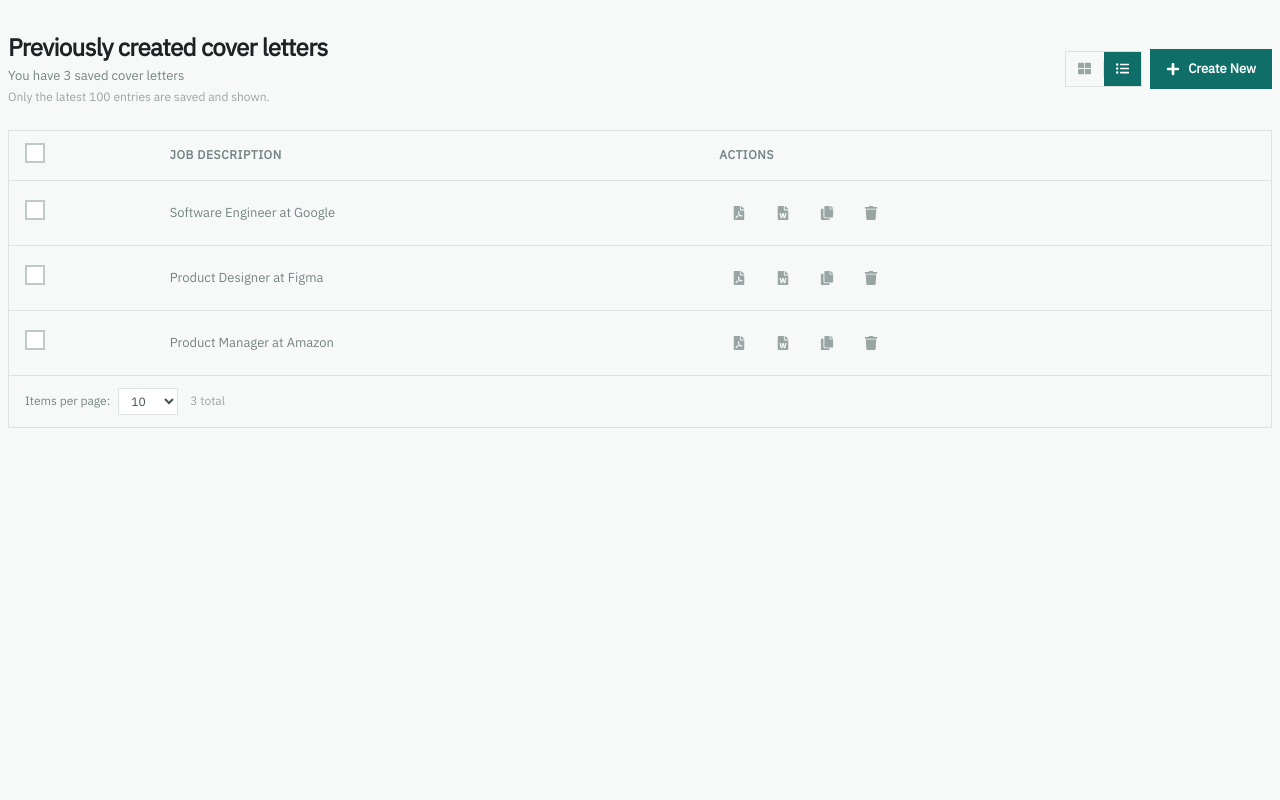
Test case: PreviousCoverLettersView — delete confirmation flows › sends a DELETE request and removes the row when confirmed
Expected: the text "Software Engineer at Google" is shown, [170,204,335,221]
Click the button titled "Delete" in the row of "Software Engineer at Google".
click(871, 212)  # box [851,192,891,232]
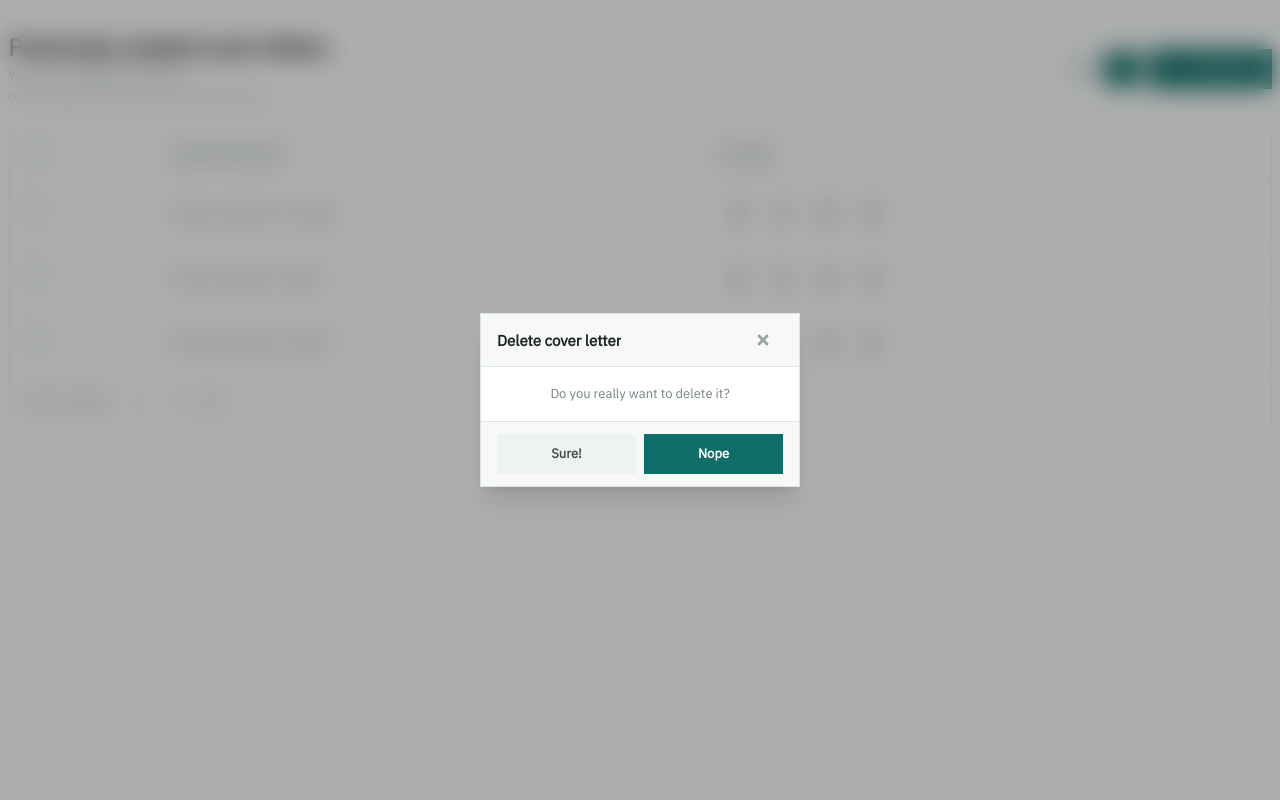
Click the button "Sure!".
click(566, 454)  # box [497,434,636,474]
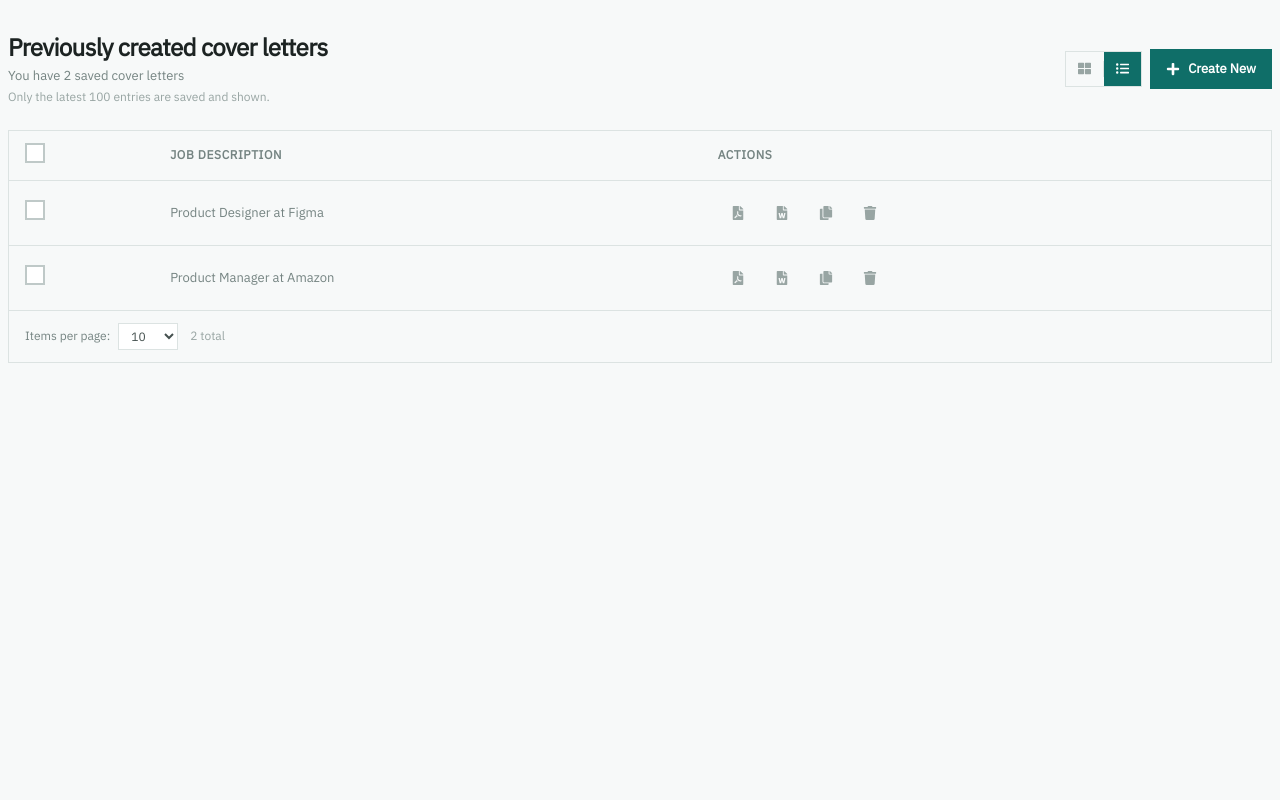
Expected: the text "Software Engineer at Google" is gone
